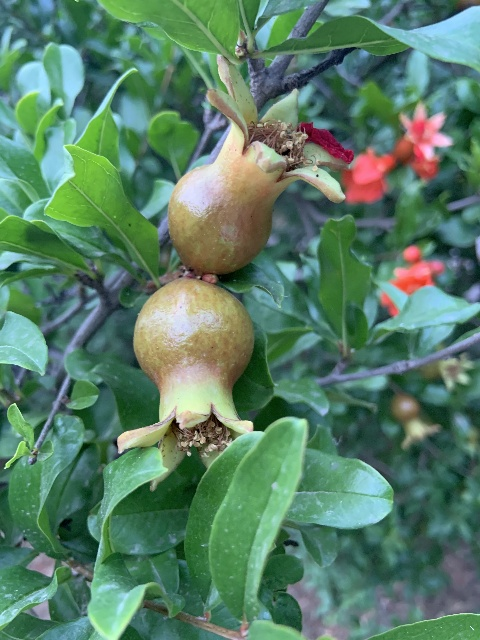bud: (404, 245, 420, 264)
early-fruit: (168, 64, 354, 276), (117, 277, 255, 491), (390, 393, 441, 447), (423, 352, 474, 392)
flower: (392, 101, 455, 160), (340, 145, 396, 203), (379, 266, 433, 316)
